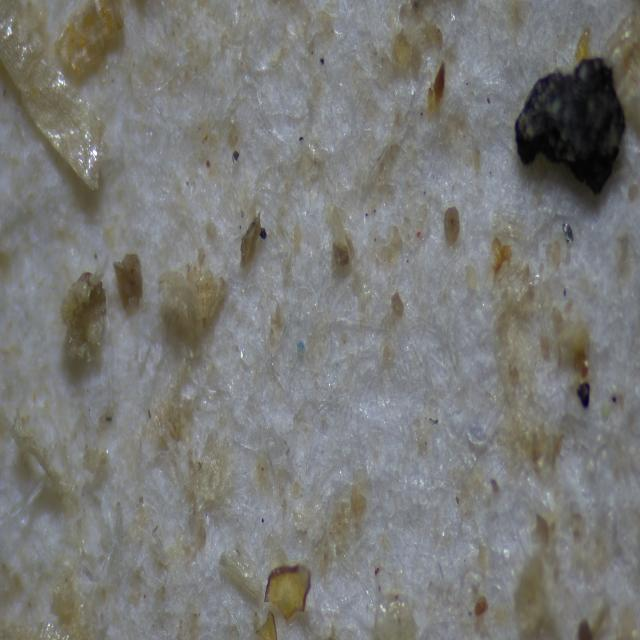microplastic: (295, 339, 308, 352)
